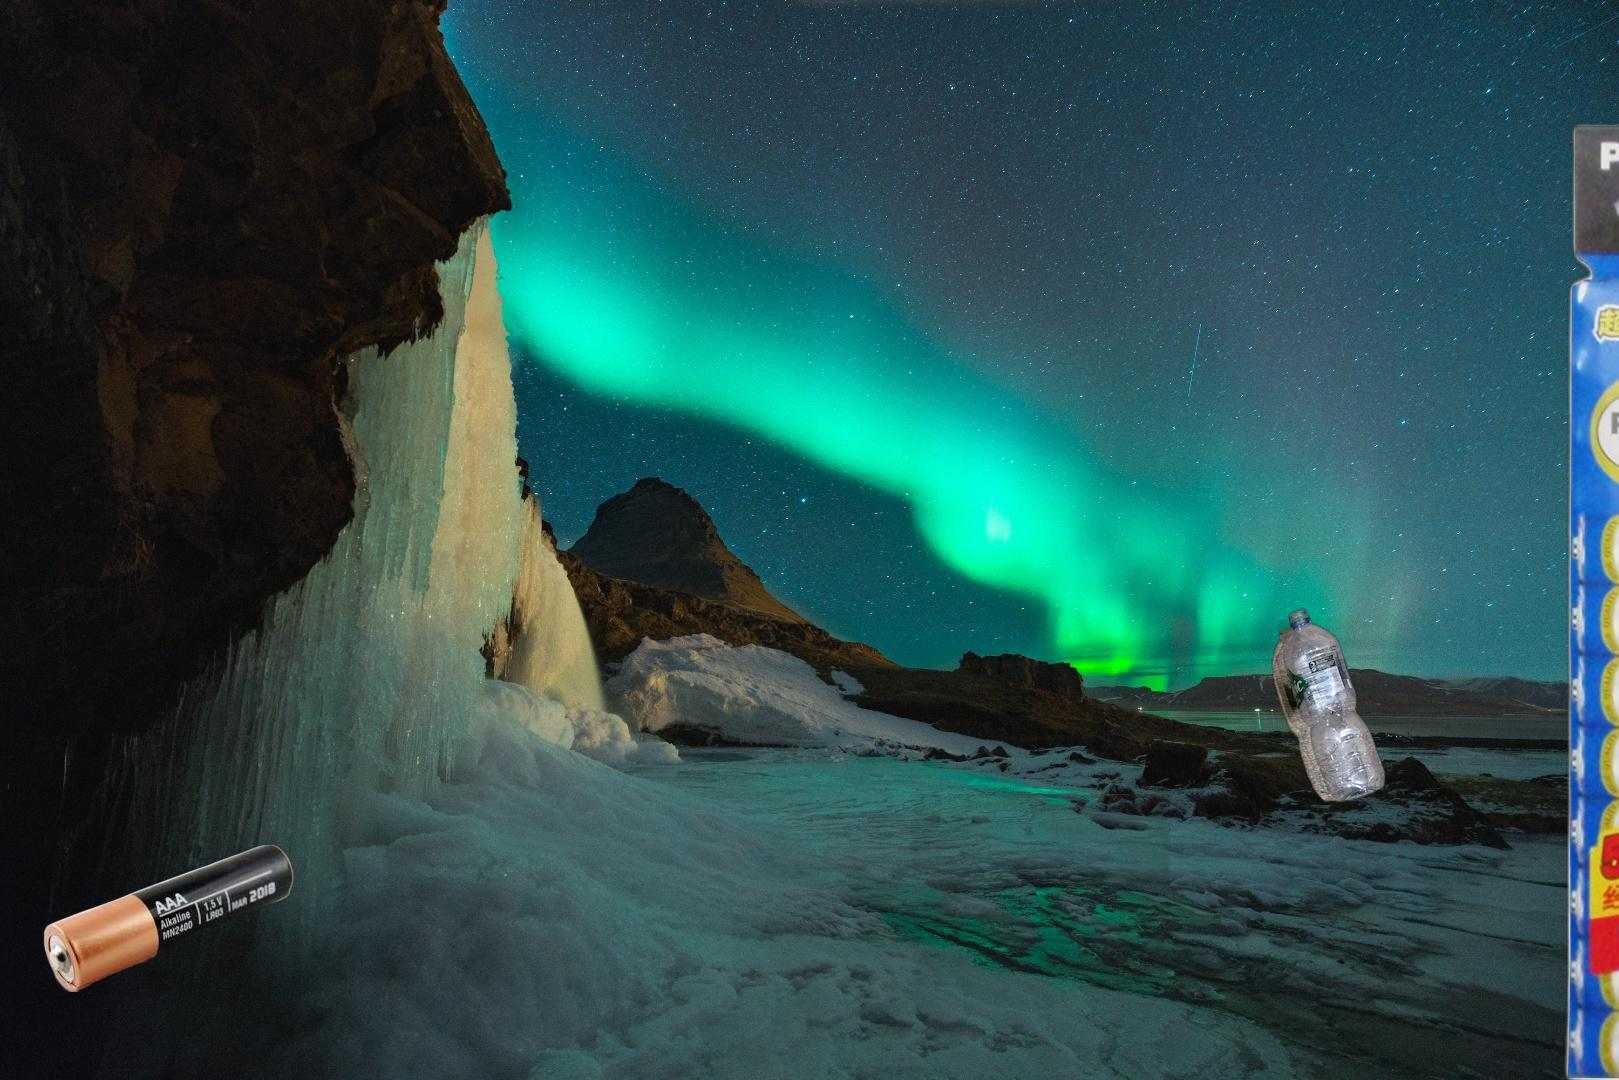battery: (1558, 116, 1619, 1080), (40, 845, 297, 992)
plastic-bottles: (1269, 605, 1388, 808)
trashbox-cardboard: (911, 794, 1171, 988)
